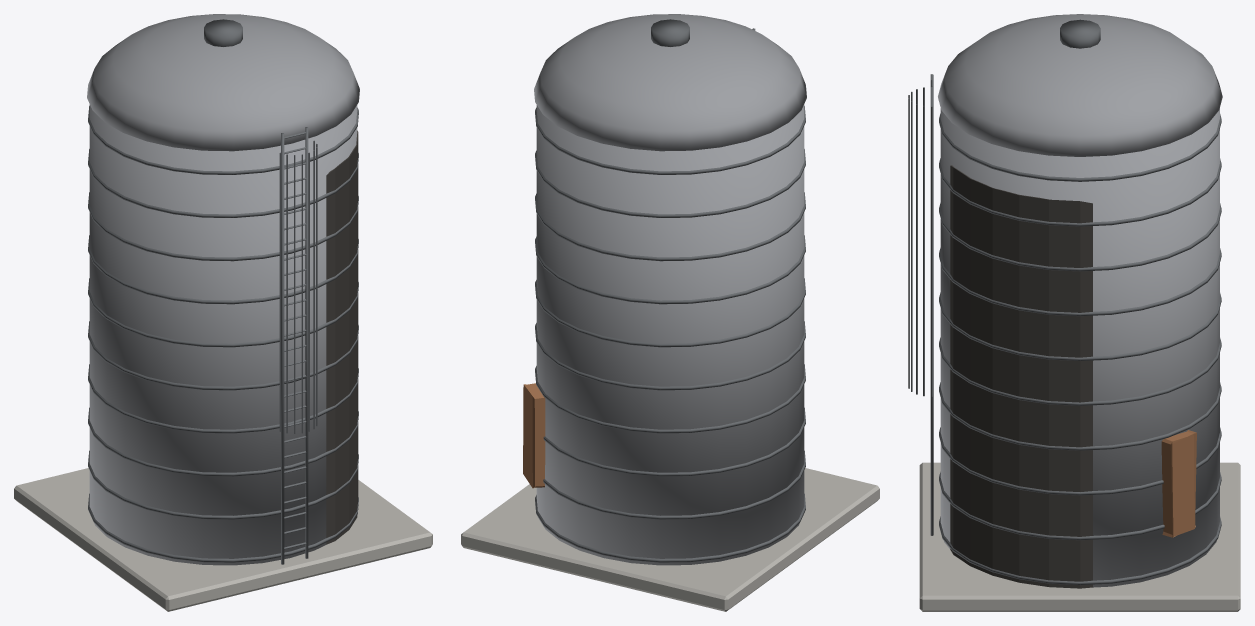
File: v_silo.glb
3 renders of one model, left to right at view 1: azimuth 30°, elevation 25°; view 2: azimuth 150°, elevation 25°; view 3: azimuth 270°, elevation 25°, orthographic. The views are drawn at different scales.
Visible parts, largest first — view 1: Silo; view 2: Silo; view 3: Silo.
Part boxes in pixels (bbox=[...]): Silo: bbox=[14, 14, 432, 611]; Silo: bbox=[461, 14, 879, 611]; Silo: bbox=[908, 14, 1240, 611].
Size of what is drawn, in the model's own units: 5.52 by 9.81 by 5.72.
